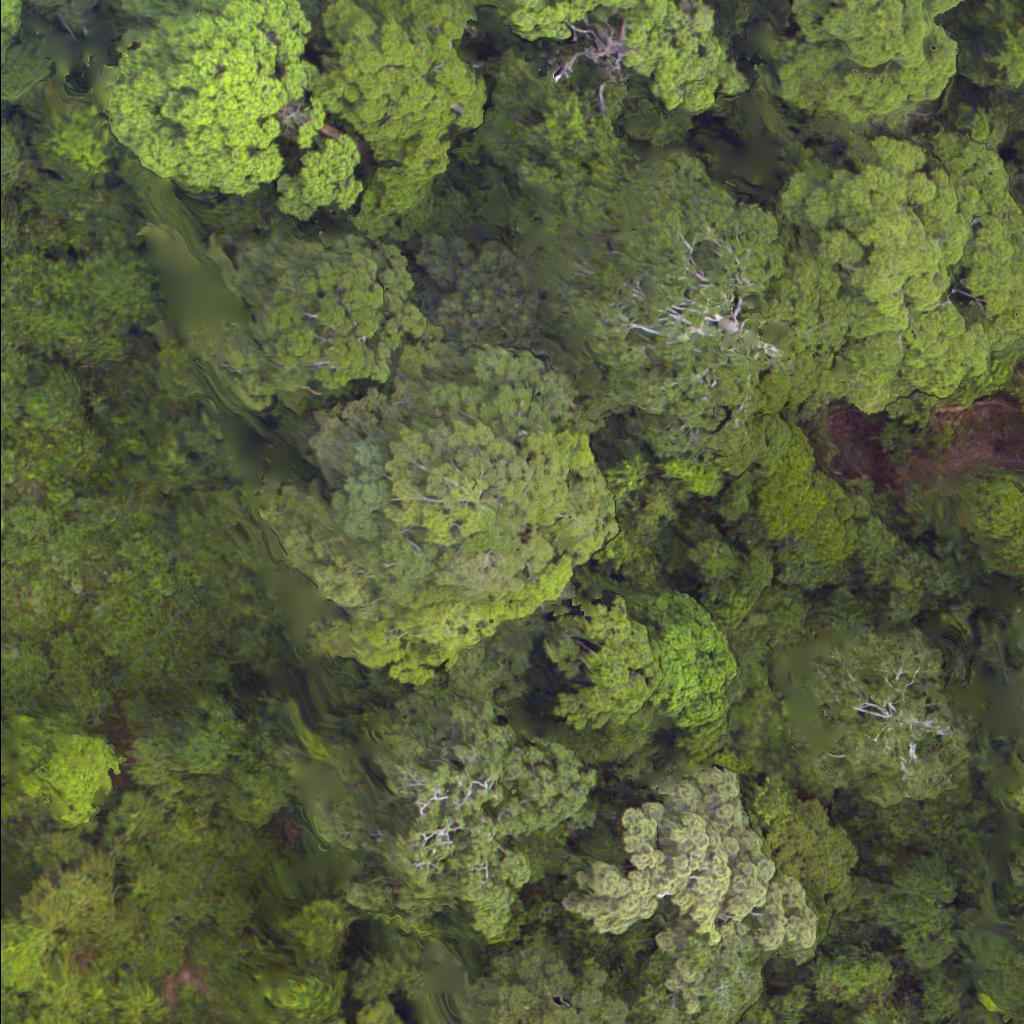crown: (525, 171, 780, 460), (770, 148, 1023, 385), (343, 713, 609, 936), (178, 238, 438, 413), (106, 0, 322, 202), (477, 0, 750, 135), (784, 630, 973, 797), (785, 0, 975, 156), (416, 943, 622, 1023), (548, 600, 658, 742), (0, 741, 137, 836), (654, 596, 742, 732), (998, 741, 1023, 818), (1010, 628, 1023, 722)
